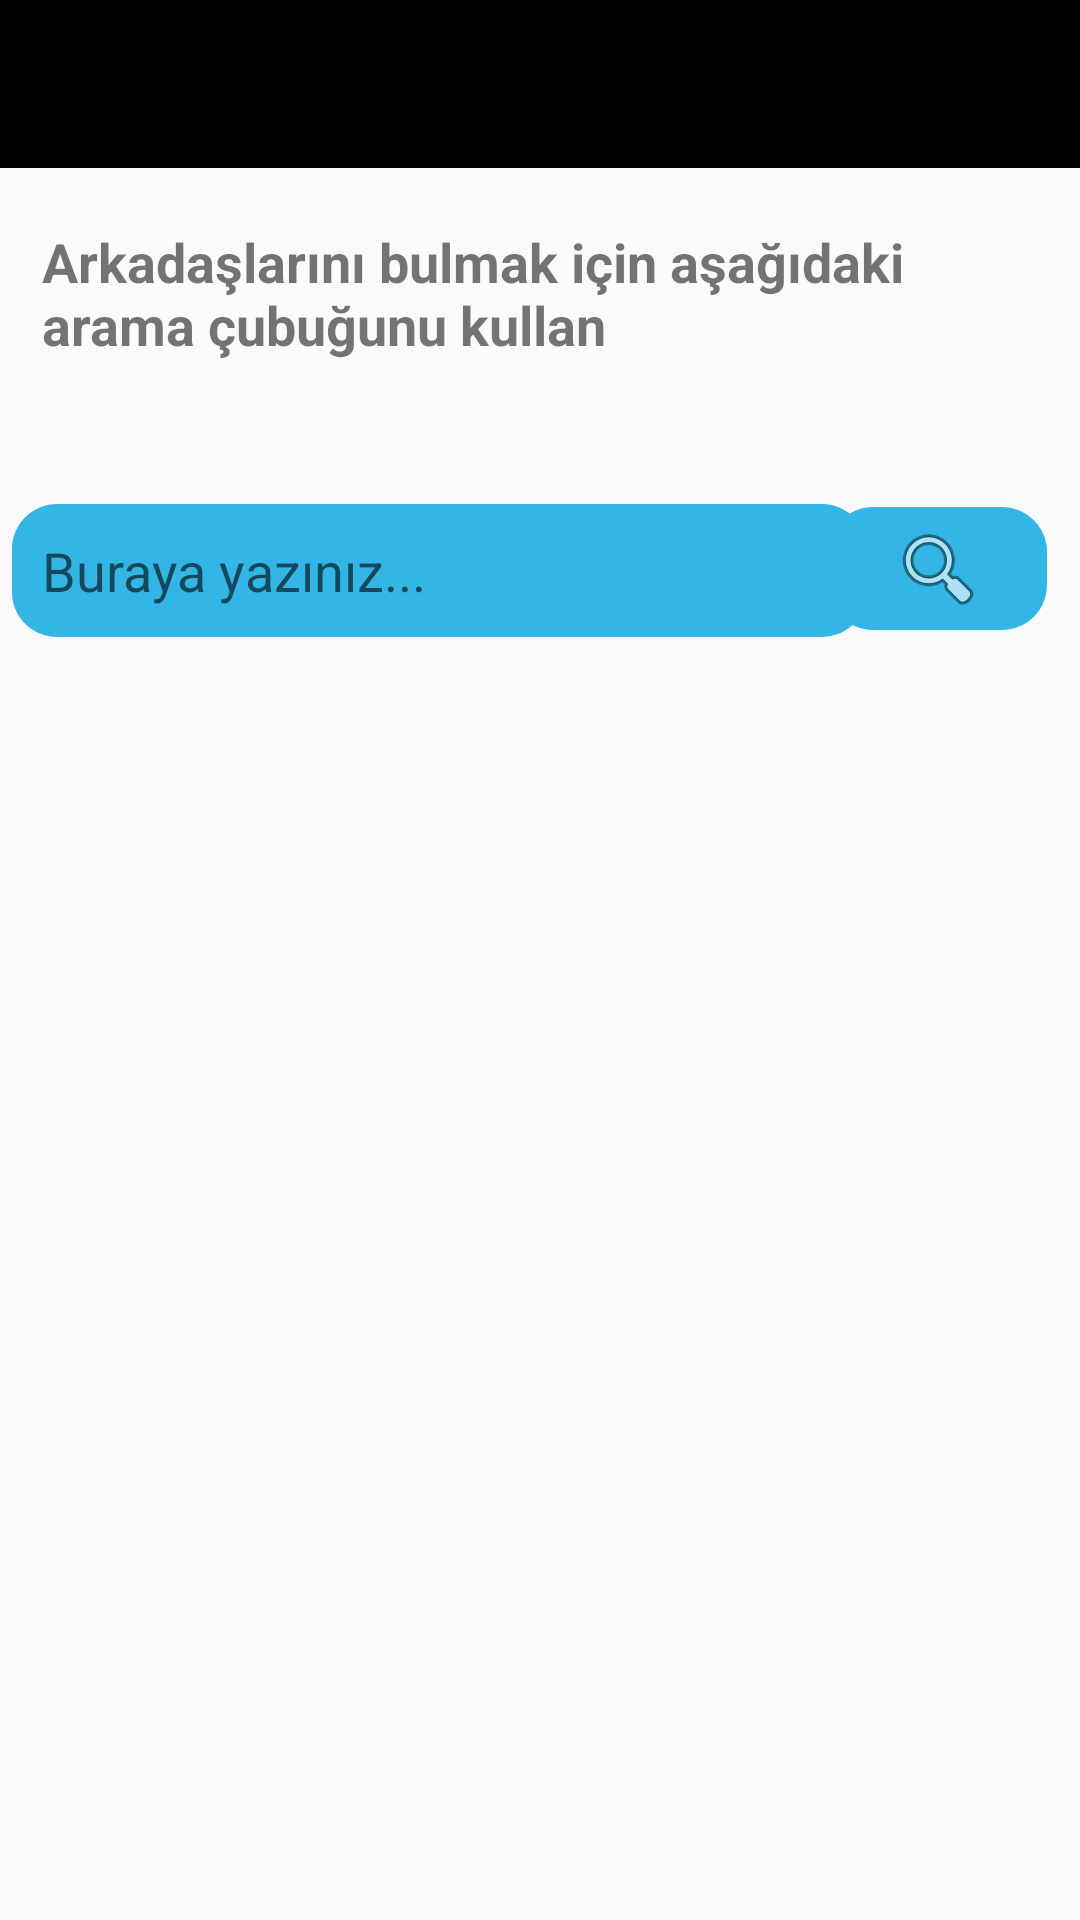

Where to tap for icons on this 1080*1920 app screen, as (x=x, y=y):
search: (x=937, y=568)
